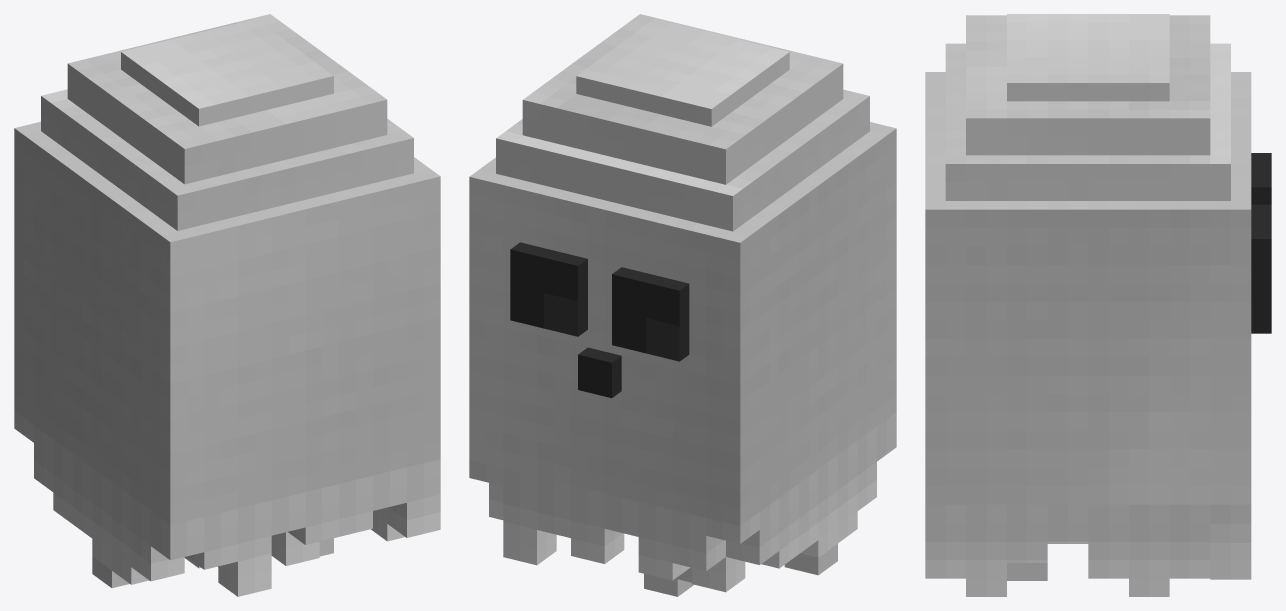
File: ghost.gltf
The picture shows the model from 3 angles, left to right: view 1: azimuth 30°, elevation 25°; view 2: azimuth 150°, elevation 25°; view 3: azimuth 270°, elevation 25°; orthographic projection. The views are drawn at different scales.
Visible parts, largest first — view 1: Body, cube (×16), tip_mid, tip_low, tip_top; view 2: Body, cube (×17), tip_mid, tip_low, tip_top, righteye, lefteye, mouth; view 3: Body, cube (×10), tip_mid, tip_low, tip_top, lefteye, righteye.
Part boxes in pixels (bbox=[...]): Body: bbox=[14, 121, 440, 524]; cube (×16): bbox=[34, 425, 440, 596]; tip_mid: bbox=[67, 14, 387, 184]; tip_low: bbox=[41, 89, 413, 230]; tip_top: bbox=[121, 19, 333, 126]; Body: bbox=[469, 122, 896, 526]; cube (×17): bbox=[469, 412, 896, 596]; tip_mid: bbox=[522, 14, 843, 184]; tip_low: bbox=[496, 89, 869, 231]; tip_top: bbox=[576, 19, 789, 126]; righteye: bbox=[612, 267, 689, 361]; lefteye: bbox=[510, 242, 587, 336]; mouth: bbox=[578, 347, 621, 398]; Body: bbox=[925, 72, 1251, 504]; cube (×10): bbox=[925, 504, 1251, 596]; tip_mid: bbox=[966, 15, 1210, 155]; tip_low: bbox=[945, 43, 1230, 200]; tip_top: bbox=[1007, 14, 1169, 101]; lefteye: bbox=[1251, 204, 1271, 312]; righteye: bbox=[1251, 153, 1271, 204].
Size of the model in its own units: 1 by 1.75 by 1.06.
7 materials, 7 textured.
